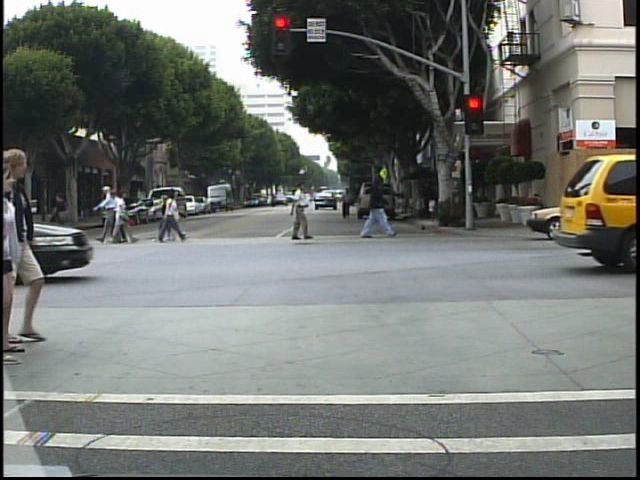person: (3, 146, 46, 349), (359, 169, 394, 242), (287, 177, 318, 242), (107, 188, 137, 252), (161, 188, 184, 246), (99, 181, 116, 245), (340, 184, 356, 220), (118, 187, 120, 246)
